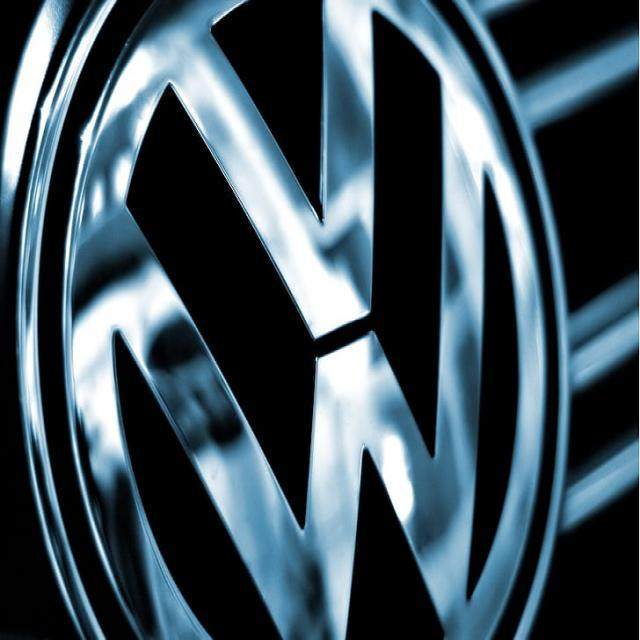volkswagen: (0, 0, 599, 640)
